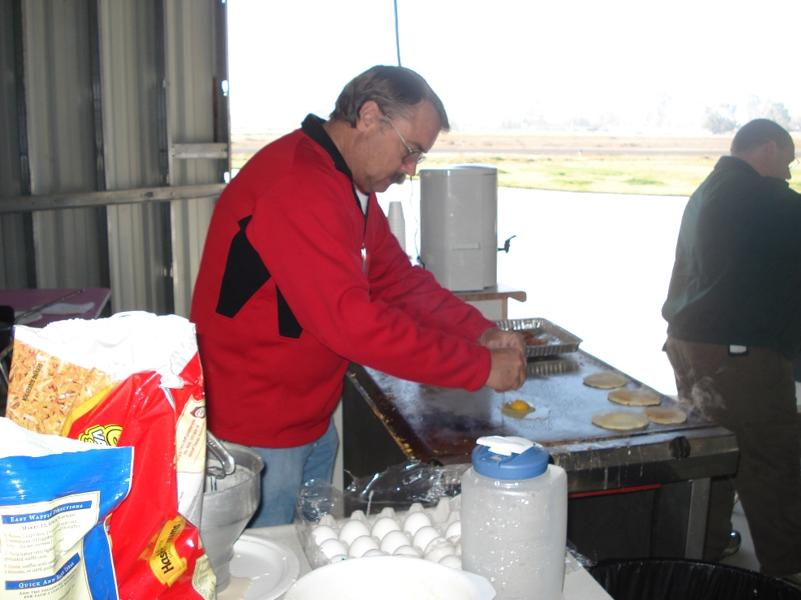person: (195, 68, 529, 531)
